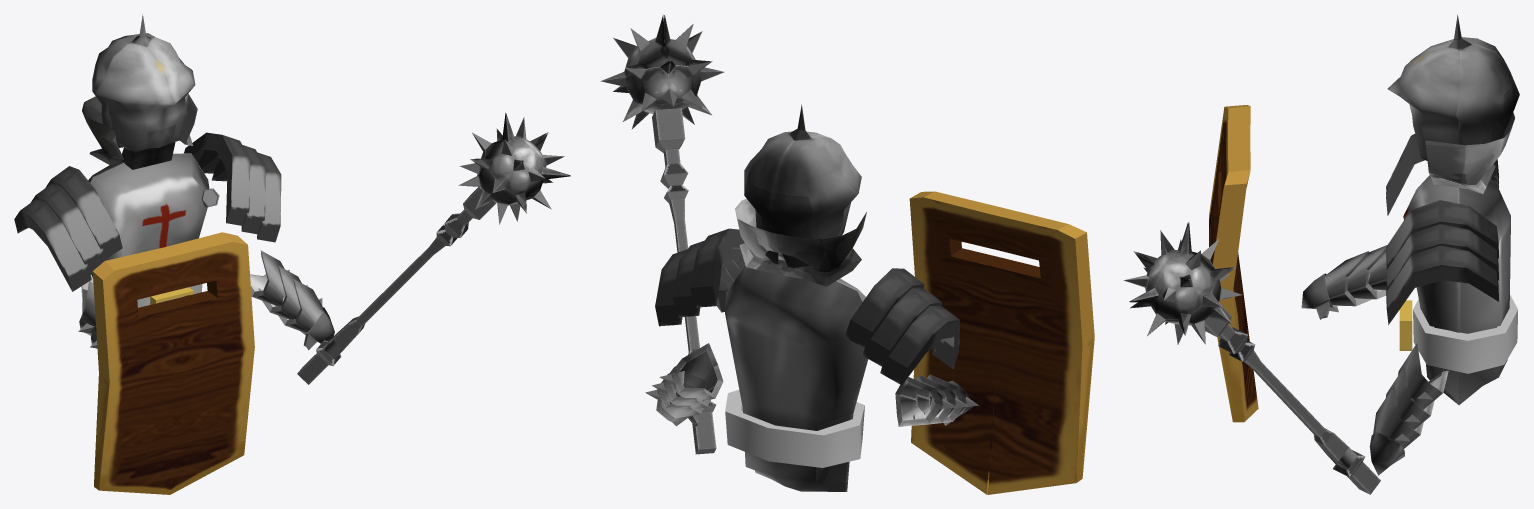
The model's file is knight_new.FBX.
The picture shows the model from 3 angles, left to right: view 1: azimuth 30°, elevation 25°; view 2: azimuth 150°, elevation 25°; view 3: azimuth 270°, elevation 25°; orthographic projection. The views are drawn at different scales.
Parts seen in each view (by area): view 1: Box007, Box015, Object016; view 2: Box007, Box015, Object016; view 3: Box007, Object016, Box015.
Part boxes in pixels (left/top/right/bottom): Box007: left=14, top=14, right=334, bottom=350; Box015: left=92, top=232, right=254, bottom=494; Object016: left=297, top=112, right=570, bottom=384; Box007: left=645, top=104, right=978, bottom=491; Box015: left=909, top=191, right=1094, bottom=494; Object016: left=600, top=15, right=724, bottom=454; Box007: left=1301, top=15, right=1519, bottom=475; Object016: left=1123, top=222, right=1380, bottom=494; Box015: left=1209, top=105, right=1258, bottom=422.
Bounding box in the file's own units: 284 × 244 × 202.
